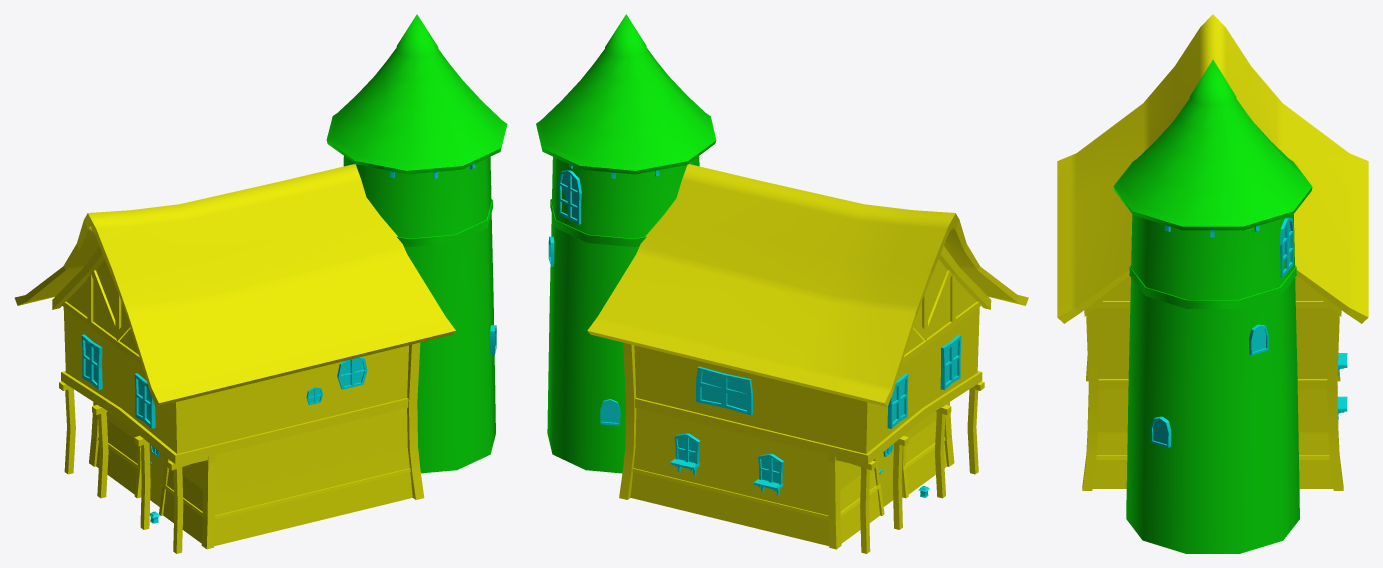
File: House_2.fbx
The picture shows the model from 3 angles, left to right: view 1: azimuth 30°, elevation 25°; view 2: azimuth 150°, elevation 25°; view 3: azimuth 270°, elevation 25°; orthographic projection. The views are drawn at different scales.
Parts seen in each view (by area): view 1: house2, tou1:tou2, doanobu:doanobu2; view 2: house2, tou1:tou2, doanobu:doanobu2; view 3: tou1:tou2, house2, doanobu:doanobu2.
Boxes of the visible parts, x1,y1,x2,y2 form: house2: (14, 164, 455, 553); tou1:tou2: (326, 14, 507, 473); doanobu:doanobu2: (81, 162, 496, 523); house2: (587, 164, 1028, 553); tou1:tou2: (536, 14, 716, 473); doanobu:doanobu2: (548, 162, 961, 497); tou1:tou2: (1113, 59, 1312, 553); house2: (1057, 14, 1368, 490); doanobu:doanobu2: (1150, 218, 1347, 447).
Bounding box in the file's own units: 1145 × 1148 × 705.
